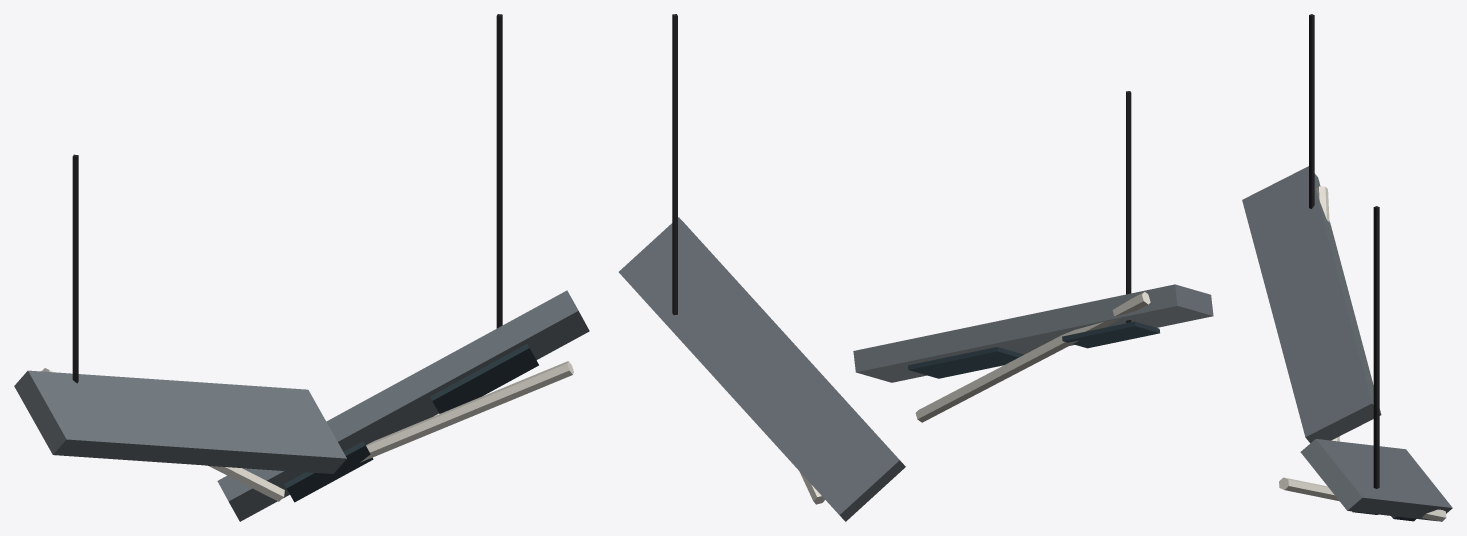
Rendered from lobby_light_broken.glb.
The picture shows the model from 3 angles, left to right: view 1: azimuth 30°, elevation 25°; view 2: azimuth 150°, elevation 25°; view 3: azimuth 270°, elevation 25°; orthographic projection. The views are drawn at different scales.
Parts seen in each view (by area): view 1: lobby_light_broken; view 2: lobby_light_broken; view 3: lobby_light_broken.
Part boxes in pixels (left/top/right/bottom): lobby_light_broken: left=14, top=14, right=589, bottom=521; lobby_light_broken: left=618, top=14, right=1213, bottom=521; lobby_light_broken: left=1242, top=14, right=1452, bottom=521.
Bounding box in the file's own units: 1.98 × 1.52 × 0.715.
2 materials, 2 textured.
